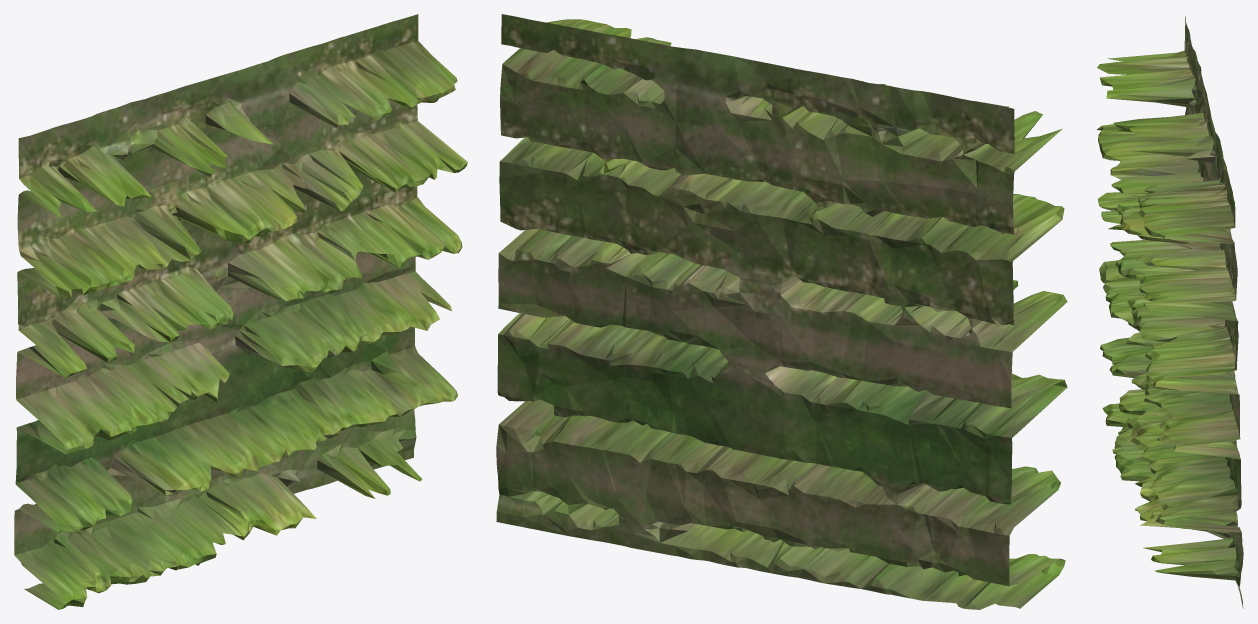
Rendered from map_100_60.obj.
The picture shows the model from 3 angles, left to right: view 1: azimuth 30°, elevation 25°; view 2: azimuth 150°, elevation 25°; view 3: azimuth 270°, elevation 25°; orthographic projection. The views are drawn at different scales.
Visible parts, largest first — view 1: grp1; view 2: grp1; view 3: grp1.
Boxes of the visible parts, x1,y1,x2,y2 form: grp1: (14,14,467,609); grp1: (496,14,1067,609); grp1: (1097,16,1243,608).
Size of the model in its own units: 10 by 10 by 3.28.
Materials: 1 (1 with a texture image).
